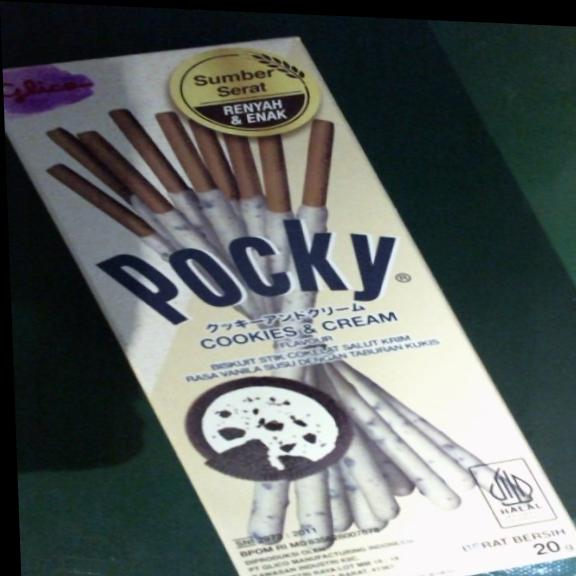Kertas: (1, 20, 576, 576)
